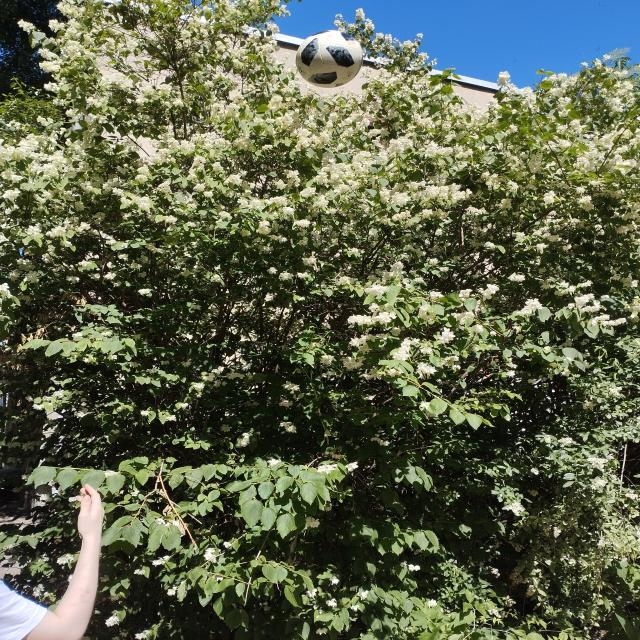nozna: (296, 30, 363, 88)
